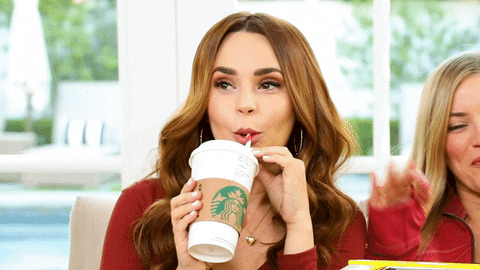drinking: (146, 8, 356, 235)
